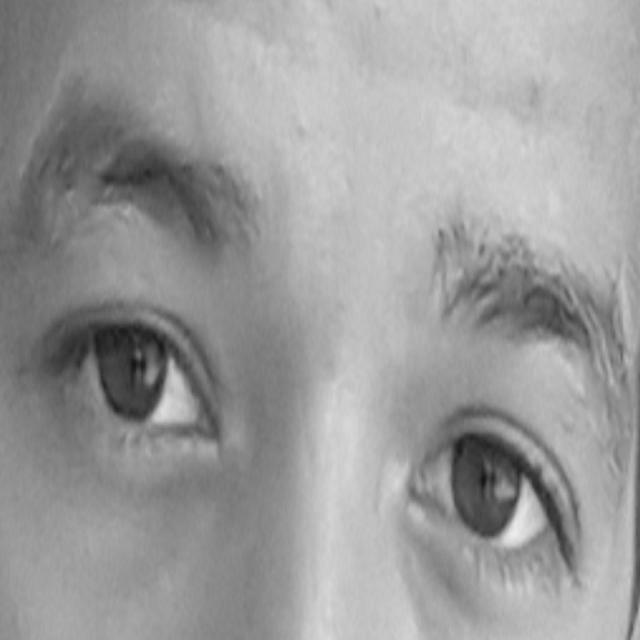real: (16, 77, 616, 622)
